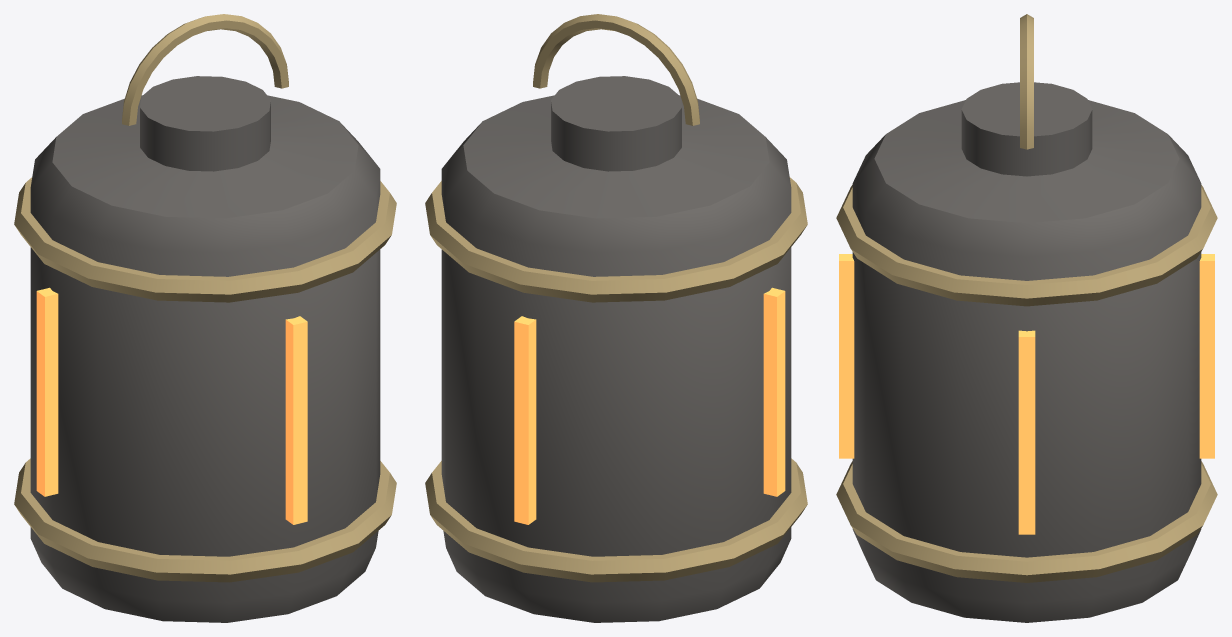
The model's file is ember-container-v01.glb.
The picture shows the model from 3 angles, left to right: view 1: azimuth 30°, elevation 25°; view 2: azimuth 150°, elevation 25°; view 3: azimuth 270°, elevation 25°; orthographic projection.
Parts seen in each view (by area): view 1: ember-container; view 2: ember-container; view 3: ember-container.
Part boxes in pixels (x1,y1,x2,y2): ember-container: [14, 14, 396, 622]; ember-container: [425, 14, 807, 622]; ember-container: [836, 14, 1217, 622].
Bounding box in the file's own units: 0.7 × 1.07 × 0.7.
